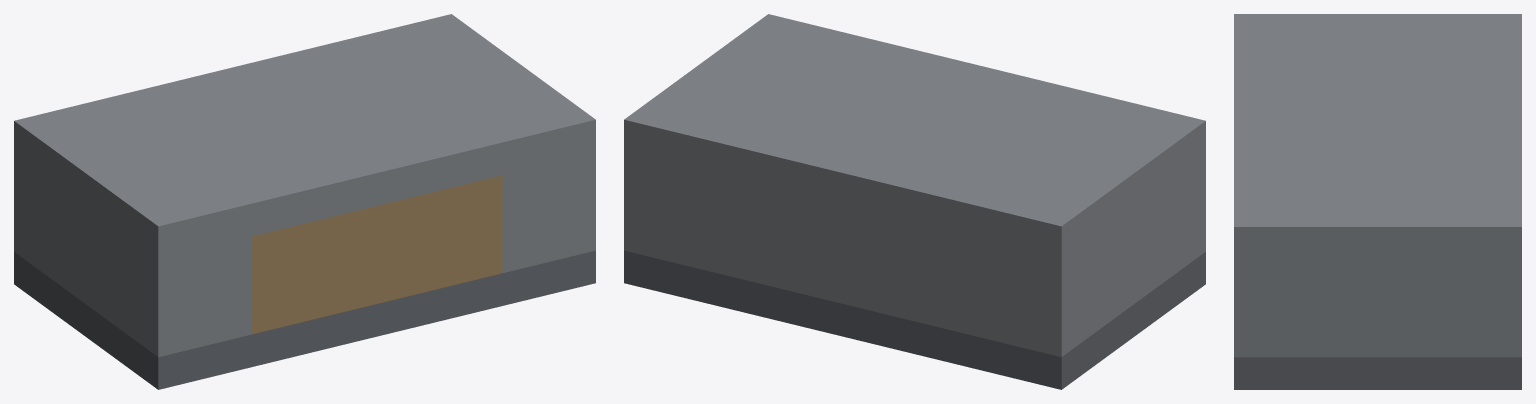
The model's file is pelvis.glb.
3 views of the same model, side by side, from view 1: azimuth 30°, elevation 25°; view 2: azimuth 150°, elevation 25°; view 3: azimuth 270°, elevation 25° (orthographic).
Bounding box in the file's own units: 14 × 5 × 8.
